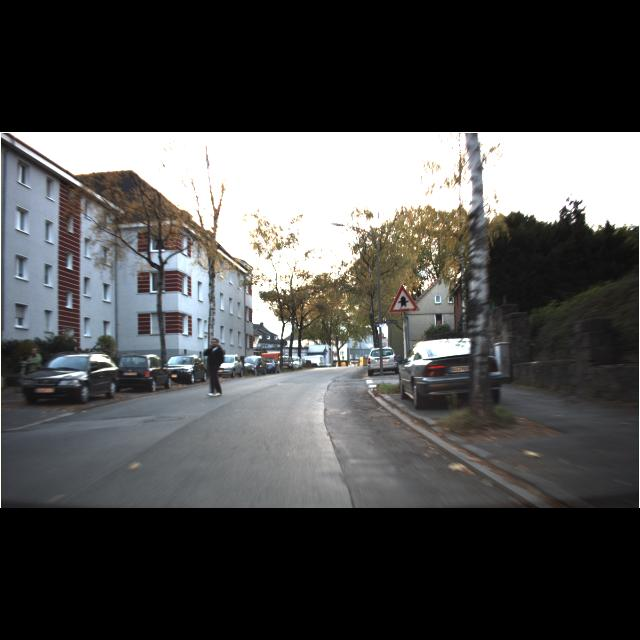danger: (388, 285, 420, 313)
